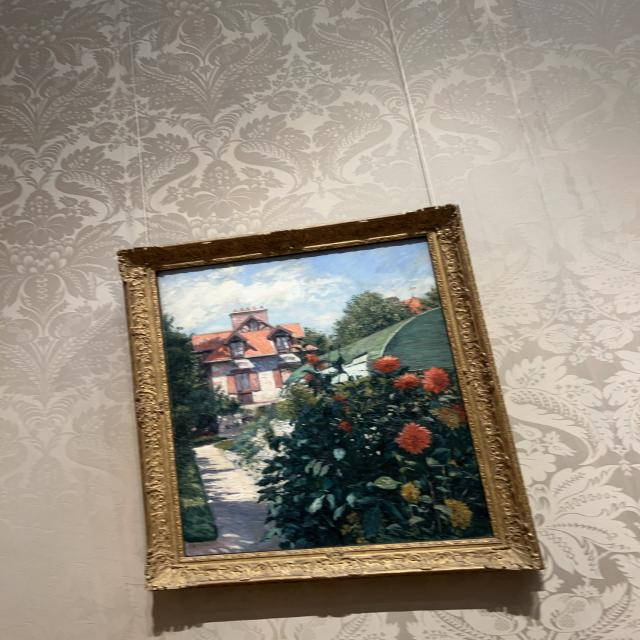summer: (161, 242, 490, 553)
